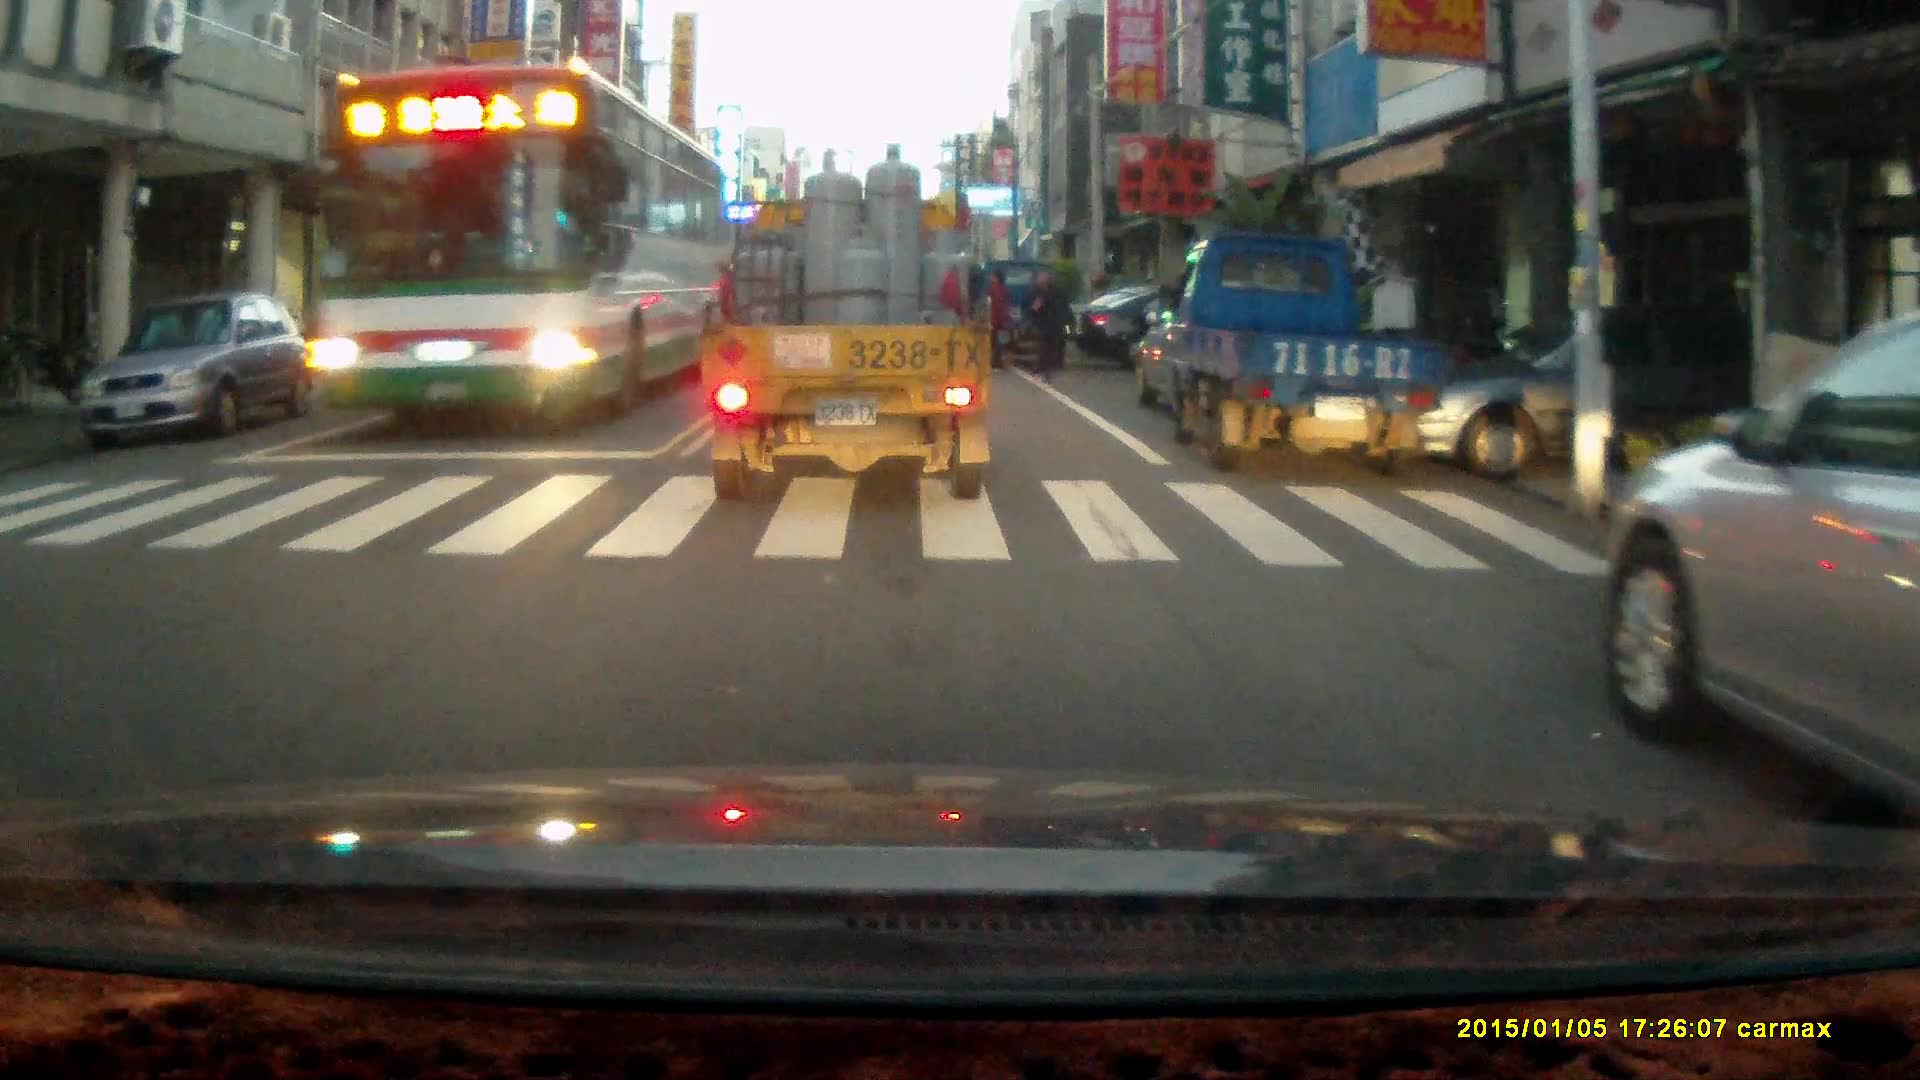pedestrian: (1021, 269, 1072, 385), (981, 263, 1012, 374)
vehicle: (1607, 316, 1920, 837), (307, 54, 735, 418), (697, 140, 997, 504), (1148, 229, 1445, 471), (1421, 332, 1770, 474), (81, 290, 309, 443), (343, 283, 522, 373), (974, 259, 1078, 373)
